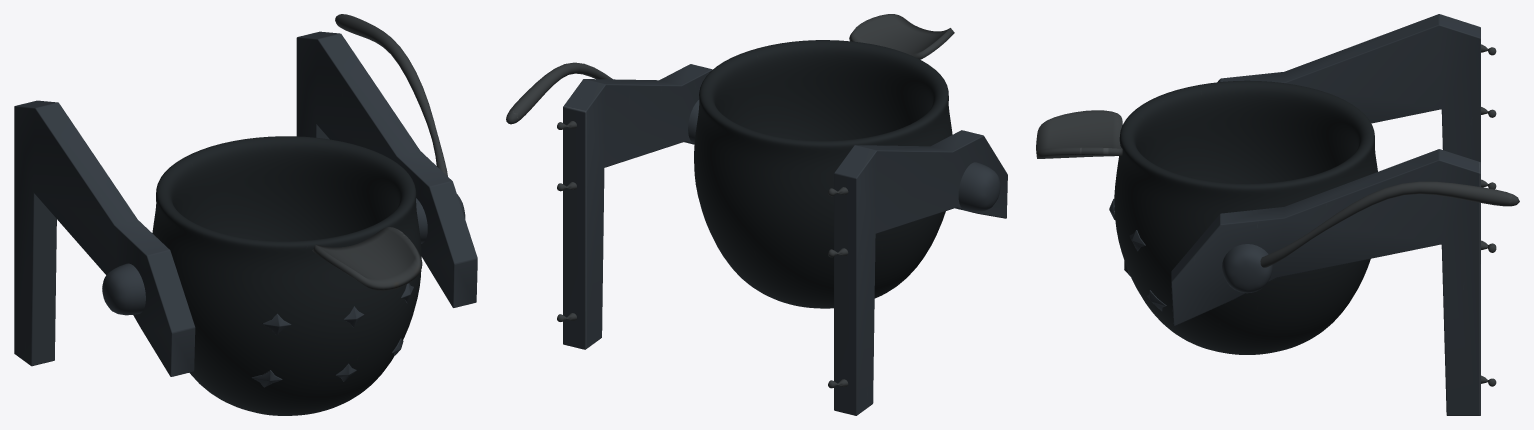
The model's file is frontier_oil_cauldron_lod0.glb.
3 views of the same model, side by side, from view 1: azimuth 30°, elevation 25°; view 2: azimuth 150°, elevation 25°; view 3: azimuth 270°, elevation 25° (orthographic). The views are drawn at different scales.
Parts seen in each view (by area): view 1: tipping_cauldron, body; view 2: tipping_cauldron, body; view 3: tipping_cauldron, body.
Part boxes in pixels (x1,y1,x2,y2): tipping_cauldron: (152,14,447,415); body: (14,31,477,376); tipping_cauldron: (506,14,954,308); body: (557,64,1007,415); tipping_cauldron: (1036,80,1519,354); body: (1171,14,1496,415).
Size of the model in its own units: 1.73 by 1.15 by 1.97.
2 materials, 2 textured.
